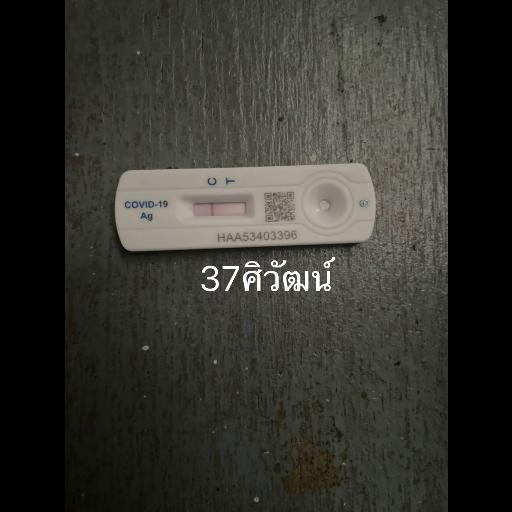Neg: (112, 163, 376, 253)
